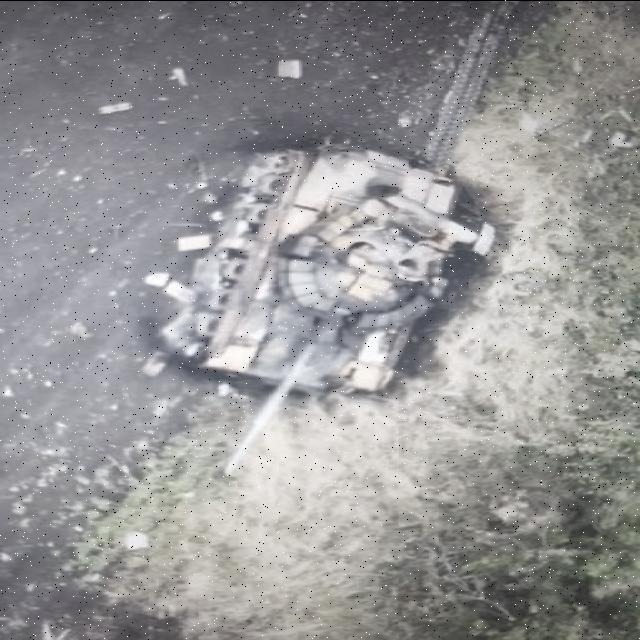TANK: (167, 138, 500, 478)
